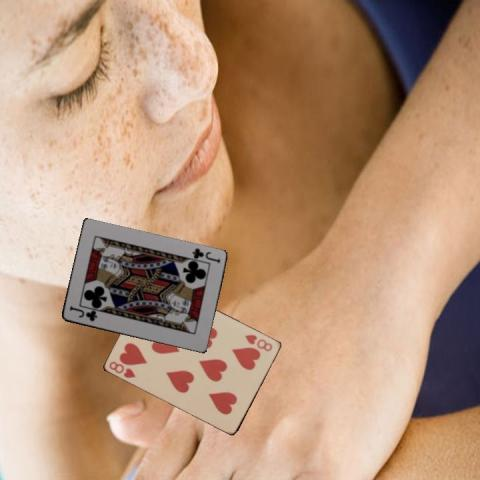8h: (242, 331, 274, 353), (106, 358, 137, 379)
Jc: (189, 245, 221, 265), (66, 304, 99, 323)
